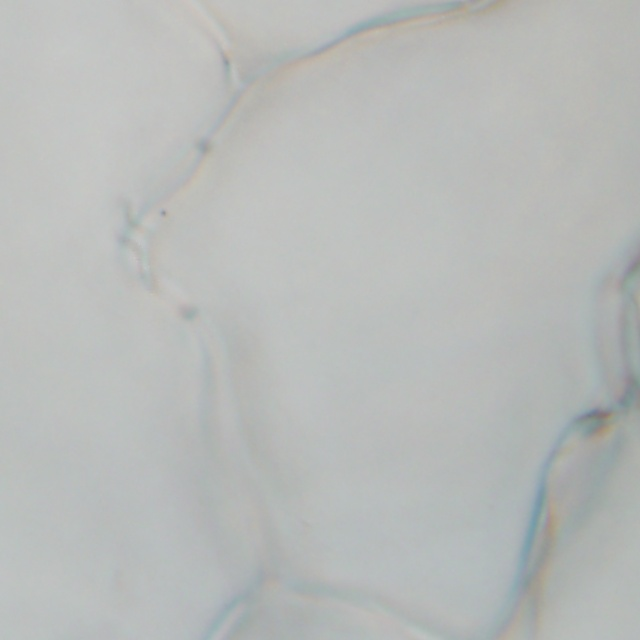center: (269, 609, 367, 618)
stomata-huw1: (209, 588, 427, 639)
